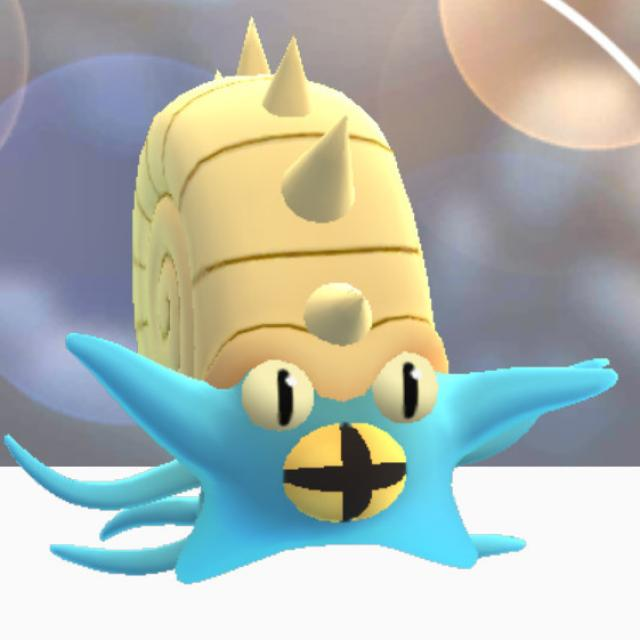Omastar: (122, 39, 470, 590)
